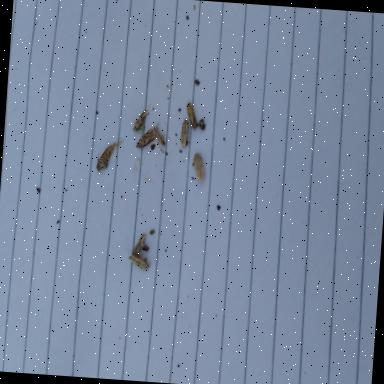pbw: (94, 144, 112, 174), (132, 102, 149, 132), (191, 152, 207, 182), (135, 127, 156, 149), (184, 98, 198, 129), (130, 231, 146, 258), (151, 118, 166, 146), (128, 255, 152, 272), (178, 119, 188, 148)
